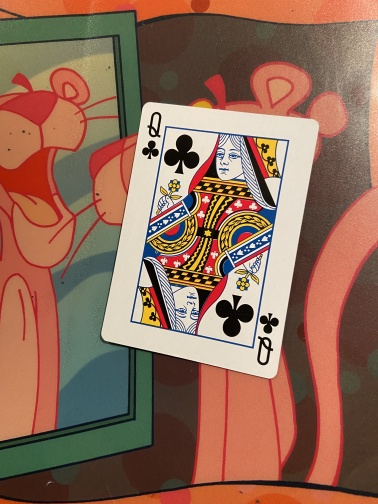queen: (99, 100, 320, 381)
